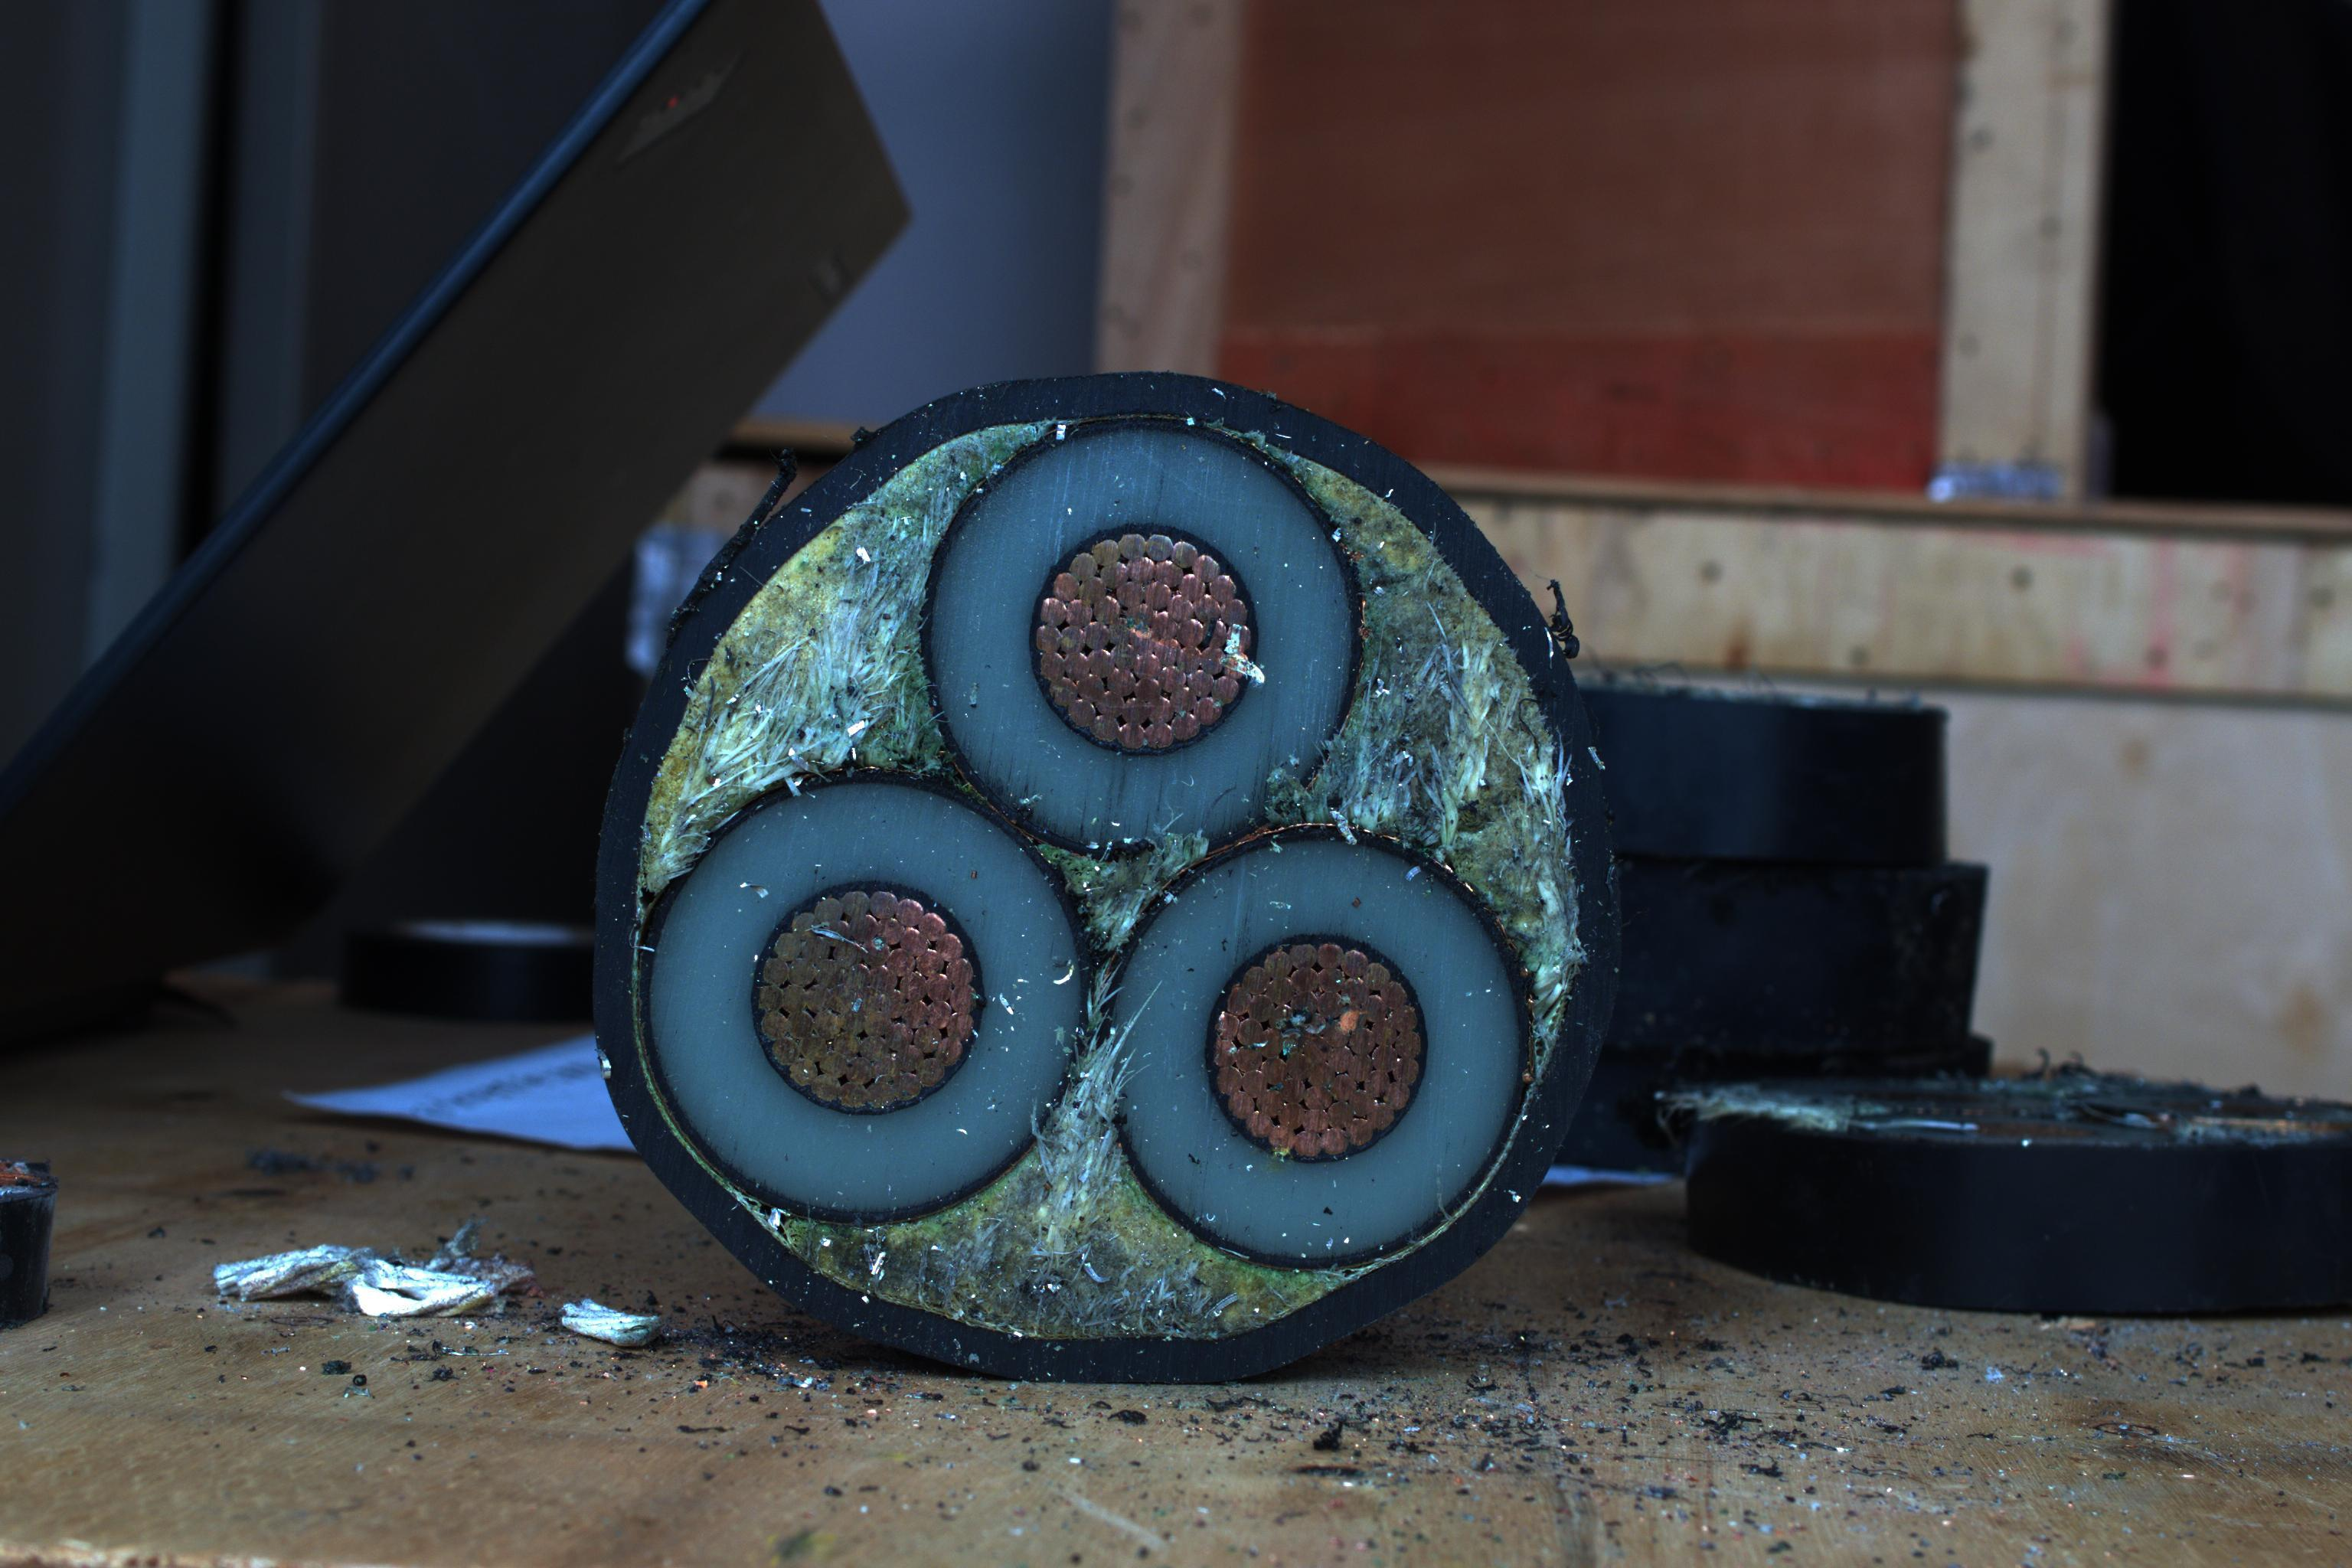ZA_YJV_26_35kV_3x400: (639, 416, 1591, 1377)
